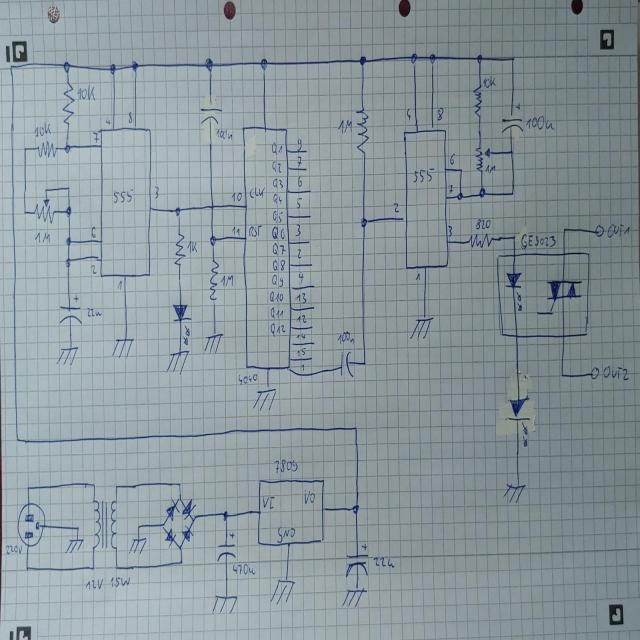capacitor: (344, 542, 370, 578), (58, 294, 82, 326), (500, 103, 523, 136), (216, 531, 236, 562), (198, 102, 223, 126), (338, 350, 355, 379)
crossover: (209, 202, 216, 211)
diode: (504, 393, 532, 447), (171, 303, 193, 347), (164, 498, 180, 520), (181, 497, 196, 520), (163, 527, 177, 546), (181, 524, 192, 542)
ground: (270, 578, 295, 605), (165, 350, 190, 376), (210, 593, 239, 615), (409, 315, 433, 341), (340, 587, 368, 609), (253, 387, 276, 412), (112, 335, 135, 359), (56, 345, 79, 367), (502, 483, 526, 504), (203, 332, 223, 354), (129, 536, 147, 554), (66, 536, 84, 553)
junction: (208, 233, 219, 250), (204, 56, 214, 72), (174, 205, 184, 219), (62, 60, 72, 74), (350, 502, 360, 515), (131, 59, 140, 72), (359, 215, 368, 228), (63, 140, 71, 154), (260, 57, 268, 71), (221, 509, 230, 521), (64, 234, 72, 247), (64, 255, 72, 268), (478, 185, 486, 198), (109, 62, 117, 75), (410, 52, 418, 65), (64, 205, 72, 217), (359, 54, 367, 66), (429, 52, 436, 65), (476, 52, 482, 64), (456, 190, 463, 200), (510, 54, 516, 63), (91, 479, 97, 488), (361, 358, 367, 367), (508, 148, 514, 156), (24, 564, 30, 572), (176, 480, 182, 488), (14, 435, 20, 443), (74, 524, 80, 532), (160, 521, 166, 529), (177, 493, 182, 502), (90, 564, 96, 571), (113, 564, 119, 571), (191, 514, 197, 521), (458, 166, 464, 173), (25, 484, 30, 492), (512, 232, 516, 241), (66, 183, 70, 192), (178, 559, 184, 565), (22, 145, 27, 152), (22, 208, 27, 215), (9, 63, 14, 70), (510, 188, 514, 196), (114, 482, 118, 490), (136, 523, 140, 530), (562, 226, 566, 233), (560, 371, 564, 378), (353, 425, 357, 431), (44, 186, 48, 192), (178, 544, 182, 550)
resistor: (355, 107, 369, 155), (34, 197, 54, 226), (61, 82, 74, 126), (474, 143, 491, 174), (208, 258, 220, 300), (36, 139, 58, 158), (468, 232, 493, 248), (174, 231, 185, 267), (473, 84, 482, 118)
terminal: (594, 224, 604, 238), (590, 366, 599, 380)
text: (520, 232, 556, 250), (524, 114, 556, 131), (600, 364, 628, 381), (274, 456, 298, 474), (606, 223, 630, 238), (412, 167, 434, 183), (77, 84, 96, 102), (112, 188, 133, 204), (33, 121, 52, 138), (371, 555, 394, 569), (276, 524, 296, 540), (232, 562, 256, 575), (236, 372, 258, 385), (109, 575, 131, 588), (33, 228, 50, 244), (4, 542, 23, 556), (85, 577, 104, 591), (269, 321, 287, 335), (337, 117, 352, 133), (248, 184, 265, 198), (336, 331, 354, 344), (303, 487, 316, 505), (482, 74, 497, 89), (220, 273, 234, 289), (271, 240, 285, 256), (215, 127, 232, 140), (248, 223, 262, 238), (262, 494, 275, 510), (475, 217, 490, 230), (269, 289, 284, 302), (272, 258, 287, 271), (86, 306, 102, 318), (269, 306, 285, 318), (270, 142, 283, 155), (271, 274, 285, 286), (272, 208, 284, 222), (272, 224, 282, 240), (186, 240, 198, 253), (294, 313, 308, 324), (272, 176, 284, 188), (484, 162, 496, 174), (294, 222, 303, 238), (272, 192, 284, 204), (271, 160, 282, 173), (152, 183, 160, 200), (230, 191, 242, 202), (294, 292, 307, 302), (436, 105, 444, 121), (230, 224, 241, 235), (296, 173, 304, 188), (294, 331, 307, 340), (297, 270, 305, 284), (91, 130, 99, 144), (294, 347, 306, 356), (405, 106, 412, 121), (446, 224, 453, 238), (90, 225, 97, 239), (296, 136, 303, 150), (392, 201, 400, 213), (296, 247, 303, 260), (448, 152, 455, 164), (296, 195, 302, 209), (127, 110, 133, 124), (447, 182, 454, 194), (116, 278, 122, 291), (296, 154, 302, 167), (90, 263, 97, 274), (414, 271, 421, 282), (104, 116, 111, 126), (298, 362, 305, 372)
transformer: (90, 494, 120, 550)
